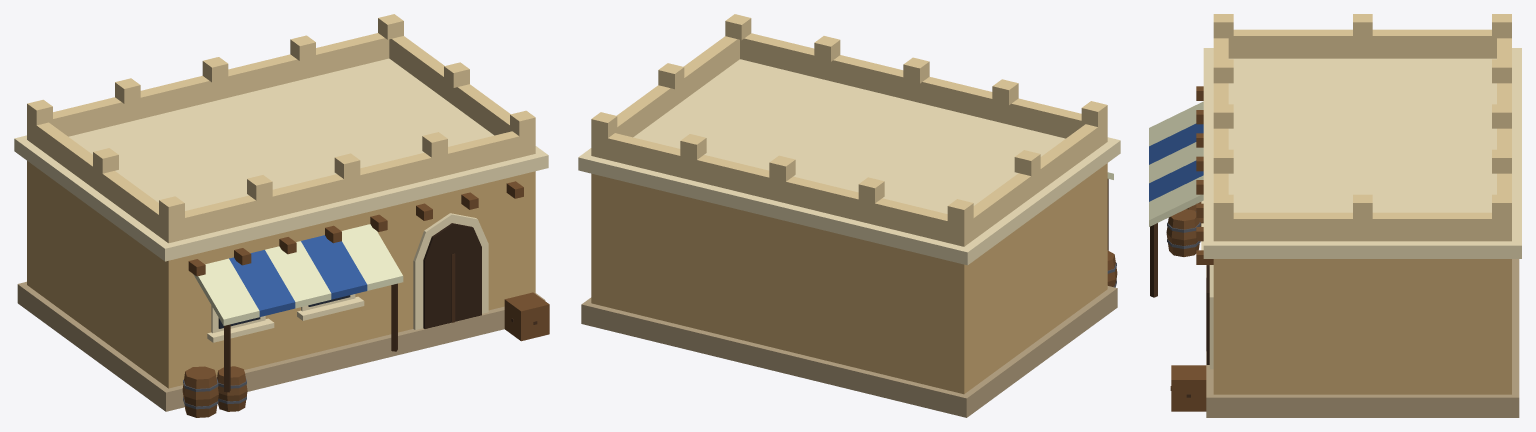
The model's file is house_04_wide_awning.fbx.
3 renders of one model, left to right at view 1: azimuth 30°, elevation 25°; view 2: azimuth 150°, elevation 25°; view 3: azimuth 270°, elevation 25°, orthographic. The views are drawn at different scales.
Parts seen in each view (by area): view 1: house_04_wide_awning; view 2: house_04_wide_awning; view 3: house_04_wide_awning.
Part boxes in pixels (bbox=[...]): house_04_wide_awning: bbox=[14, 14, 549, 417]; house_04_wide_awning: bbox=[578, 14, 1120, 417]; house_04_wide_awning: bbox=[1149, 14, 1521, 417].
Bounding box in the file's own units: 9.4 × 4.7 × 7.5.
Materials: 1 (1 with a texture image).
